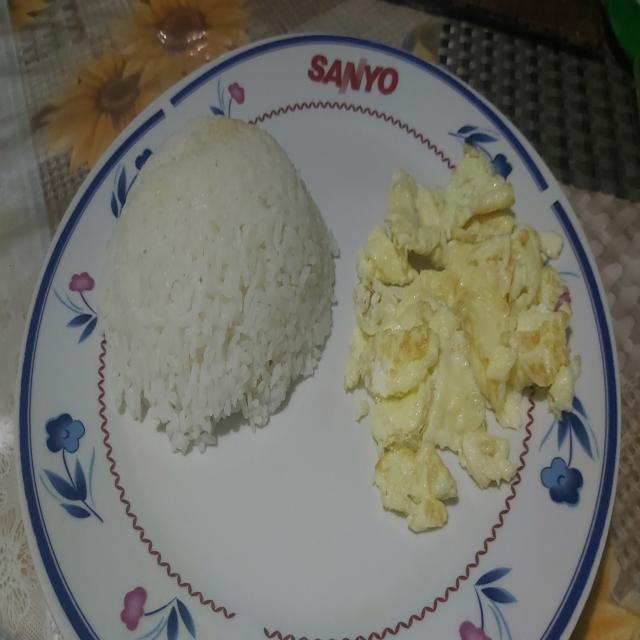Chicken -Chicken Inasal-: (105, 116, 332, 429)
